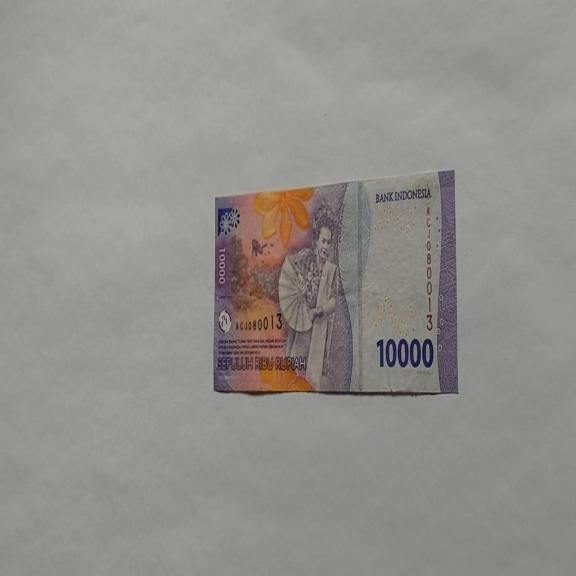Kertas: (212, 168, 458, 396), (376, 335, 434, 370)
